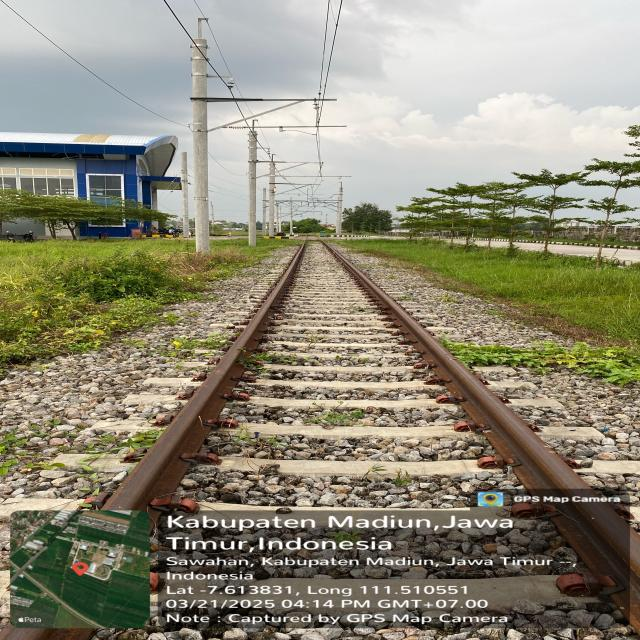rail-detection: (329, 250, 640, 624), (104, 244, 304, 510)
